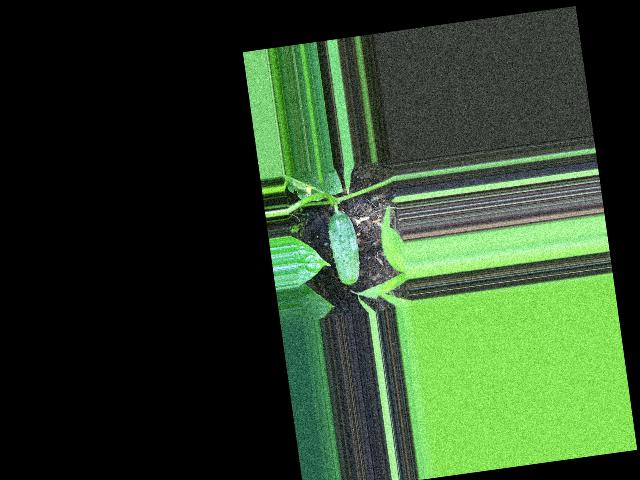cucumber: (326, 210, 363, 287)
